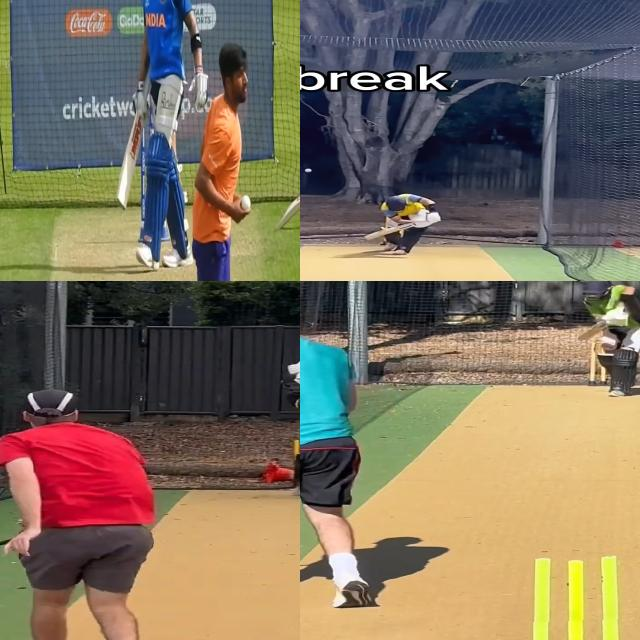Cricket ball: (240, 193, 252, 215), (304, 168, 312, 173)
Stumps: (516, 555, 640, 640)
